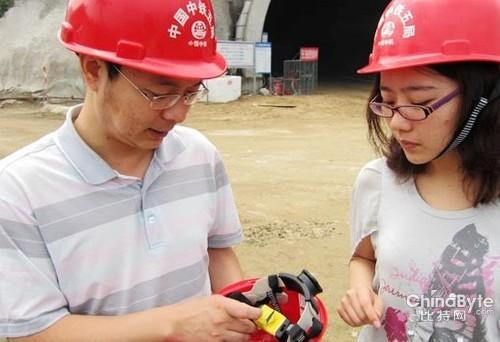helmet: (45, 0, 243, 158), (344, 0, 499, 181)
